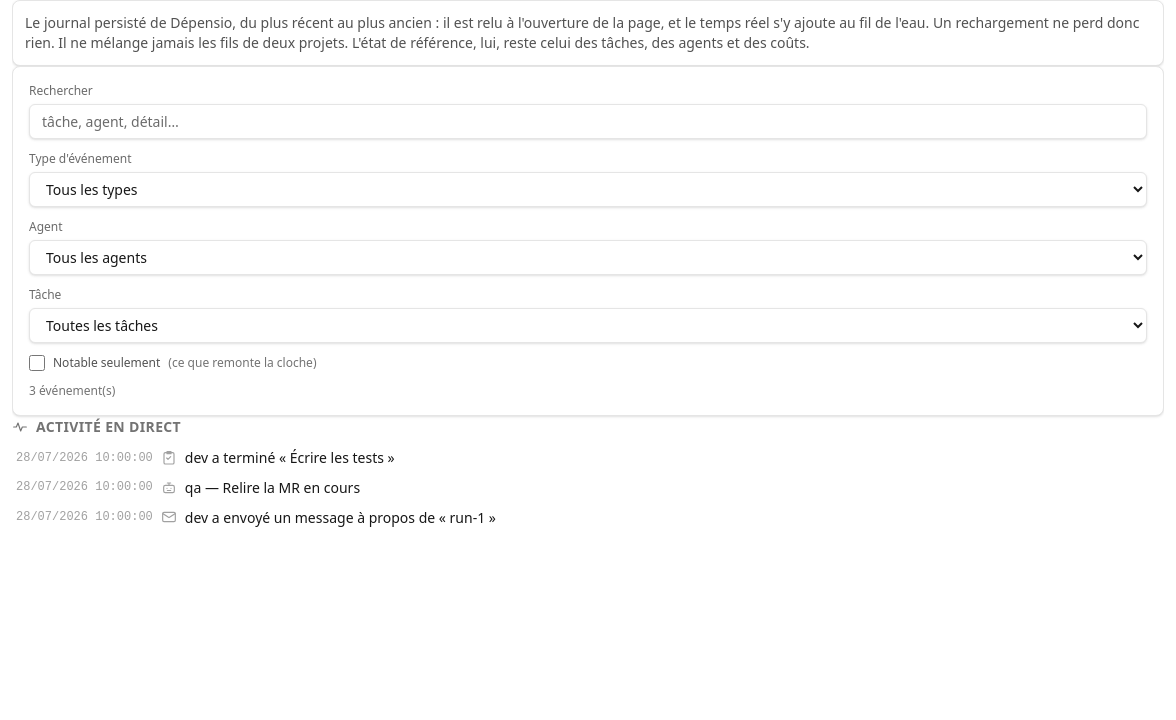
Test: la page Journal › filtre par type d'événement, nommé en français
Select "Statut de tâche" in the dropdown labelled "Type d'événement" at (588, 190), box [29,172,1147,207]
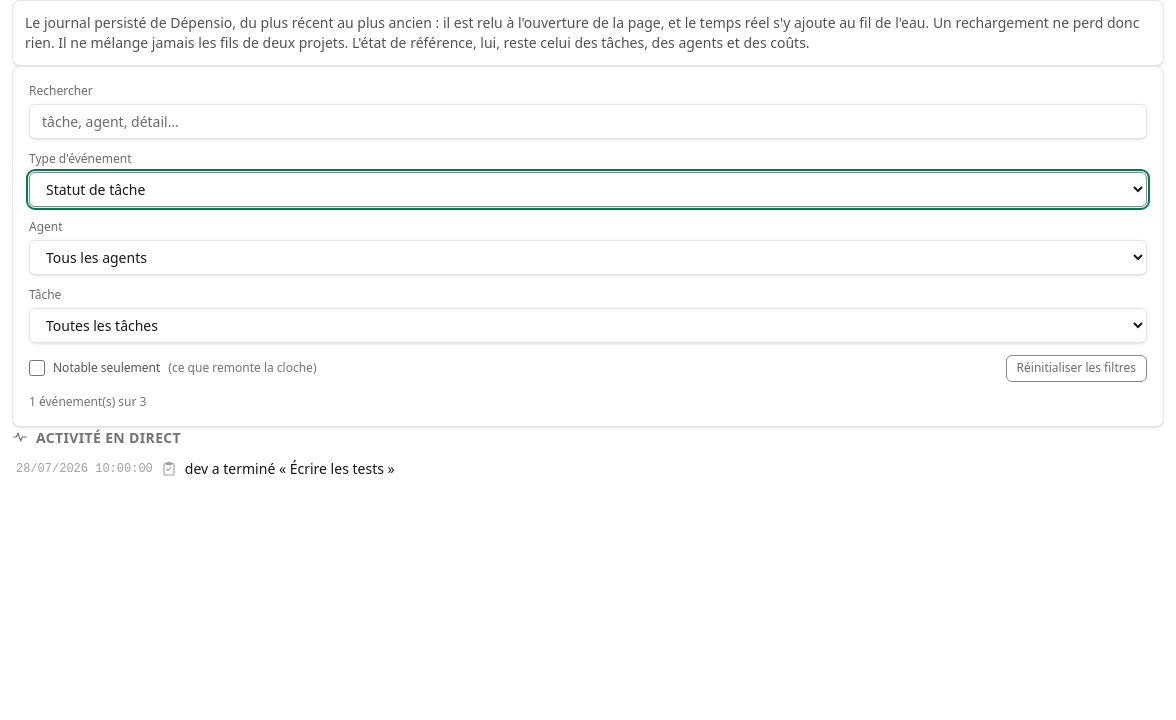
Expected: the number of list items is 1, [12,456,1164,482]
